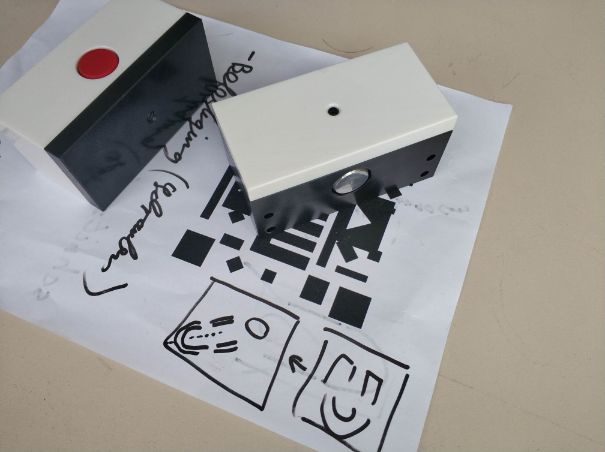black+white+red: (1, 1, 219, 213)
white+black+silver: (208, 40, 459, 243)
